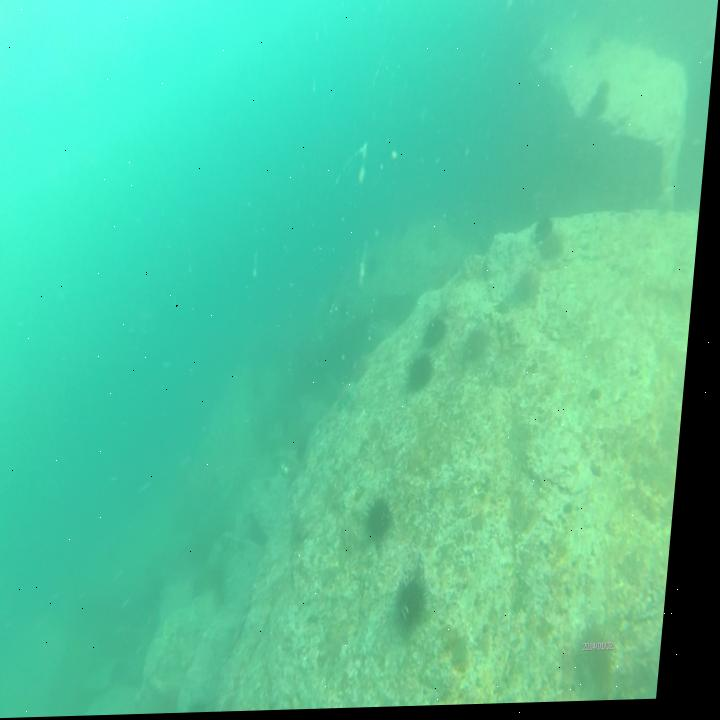echinus: (582, 619, 633, 701), (405, 570, 443, 642), (374, 493, 408, 549), (414, 349, 445, 400), (468, 324, 499, 367), (428, 312, 457, 356), (542, 233, 572, 271), (592, 77, 615, 119), (537, 213, 562, 244)
